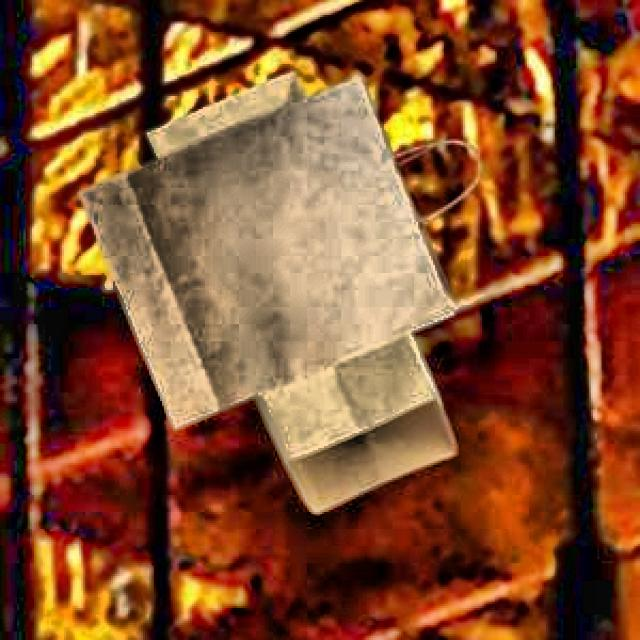Paper-bag: (121, 57, 468, 521), (62, 71, 459, 431)
